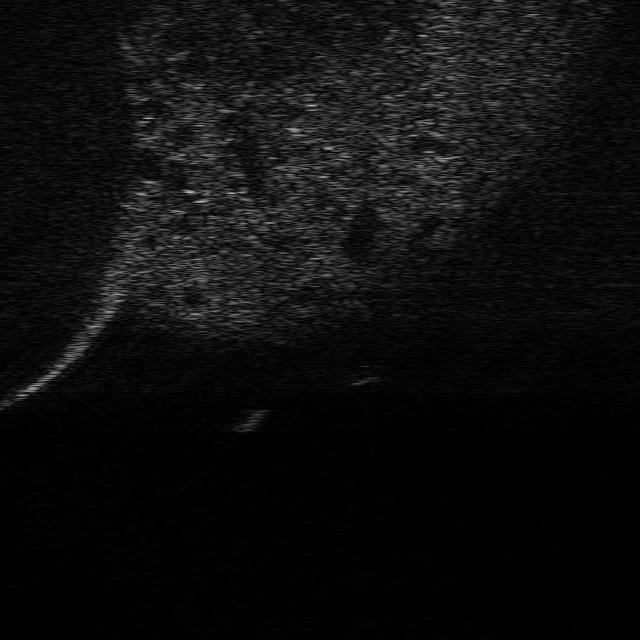cube: (343, 364, 378, 387)
cylinder: (232, 406, 266, 434)
